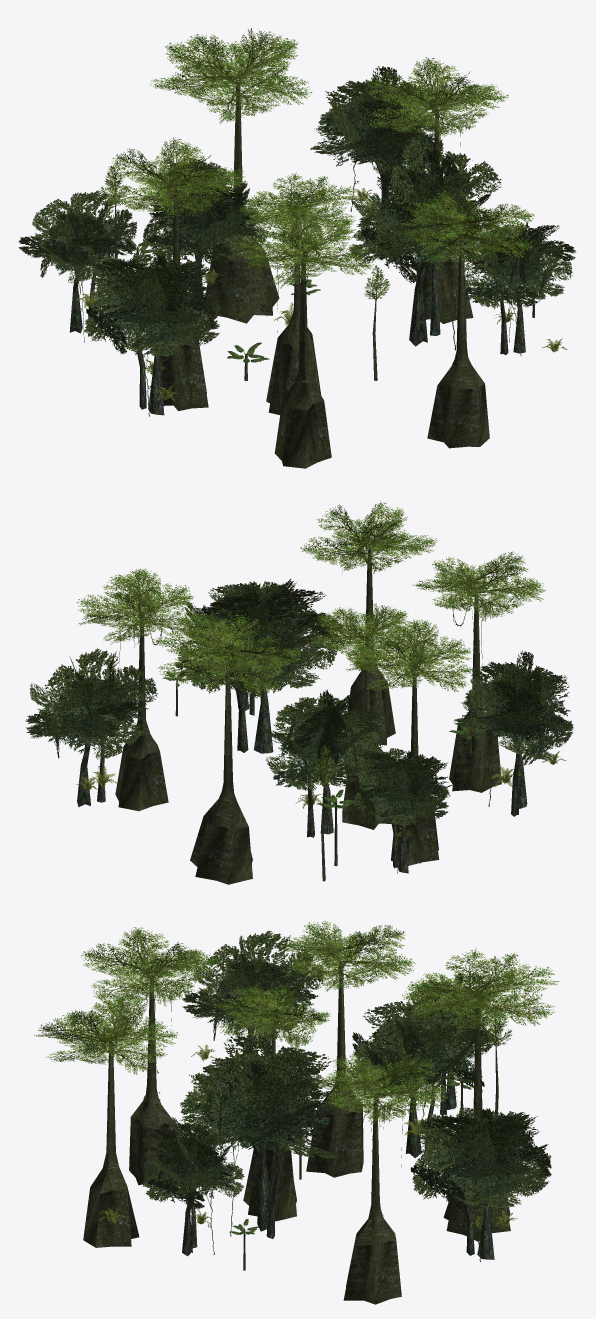
3 views of the same model, one above another, from view 1: azimuth 30°, elevation 25°; view 2: azimuth 150°, elevation 25°; view 3: azimuth 270°, elevation 25° (orthographic). The views are drawn at different scales.
Visible parts, largest first — view 1: _Tg01a; view 2: _Tg01a; view 3: _Tg01a.
Boxes of the visible parts, x1,y1,x2,y2 form: _Tg01a: (18,28,576,468); _Tg01a: (25,501,573,884); _Tg01a: (34,921,559,1304).
Bounding box in the file's own units: 55.86 × 31.37 × 58.24.
Materials: 10 (10 with a texture image).
